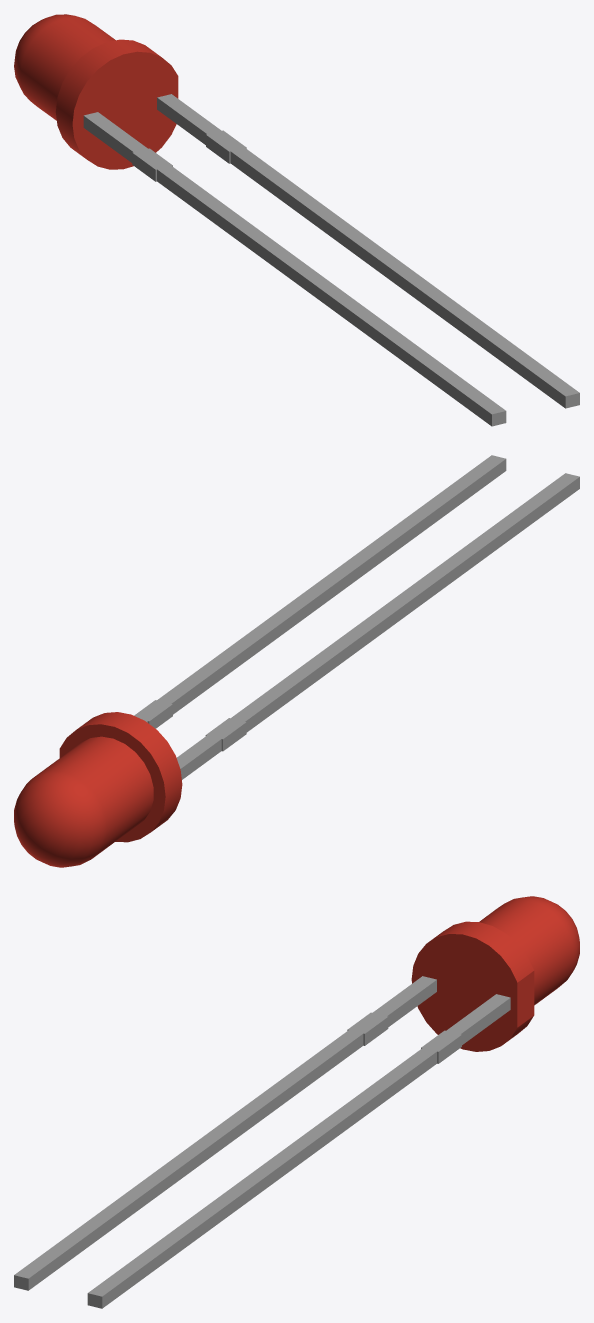
The model's file is 3MMLED-RED v1.obj.
The picture shows the model from 3 angles, top to bottom: view 1: azimuth 30°, elevation 25°; view 2: azimuth 150°, elevation 25°; view 3: azimuth 330°, elevation 25°; orthographic projection.
Parts seen in each view (by area): view 1: Solid1; view 2: Solid1; view 3: Solid1.
Part boxes in pixels (bbox=[...]): Solid1: bbox=[14, 14, 579, 426]; Solid1: bbox=[14, 455, 579, 867]; Solid1: bbox=[14, 896, 579, 1308].
Bounding box in the file's own units: 3.65 × 3.79 × 29.7.
